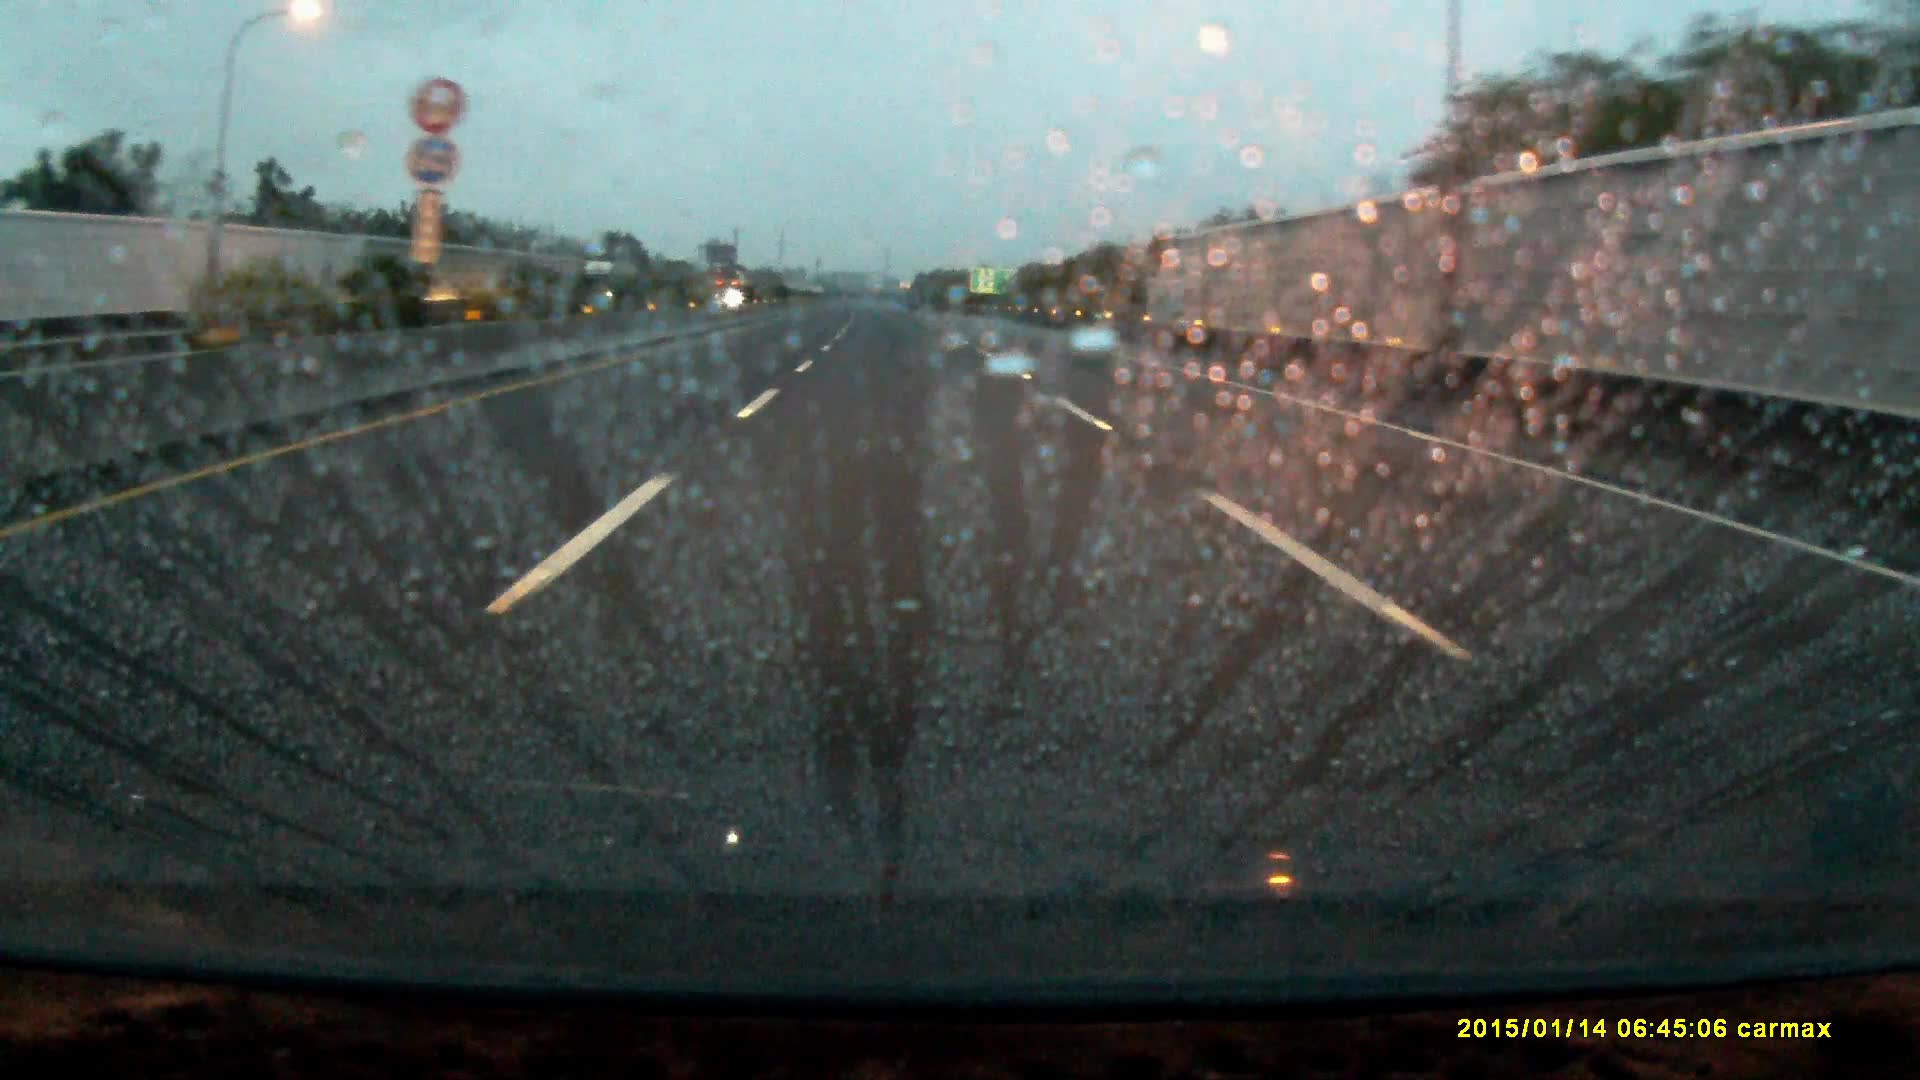vehicle: (580, 258, 634, 299), (715, 276, 750, 305)
